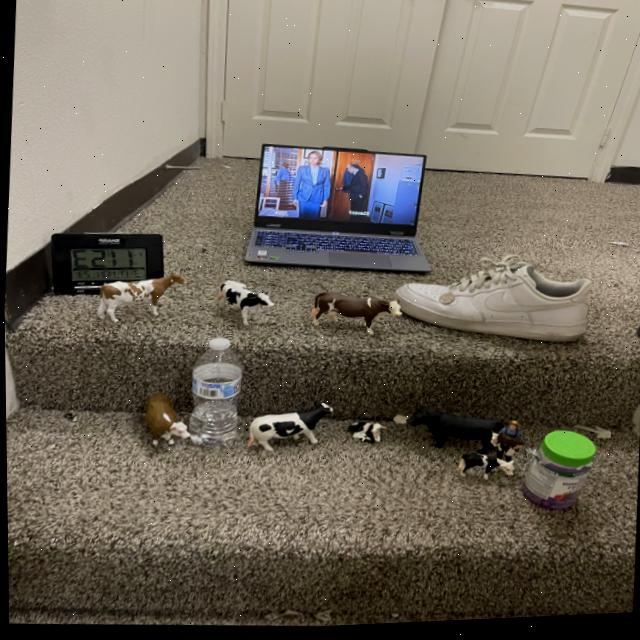cow: (401, 409, 504, 463), (91, 271, 189, 327), (242, 403, 337, 457), (308, 291, 403, 343), (211, 269, 275, 333), (136, 389, 190, 452), (456, 454, 515, 489), (486, 436, 524, 465), (346, 423, 385, 446)
person: (497, 424, 520, 448)
